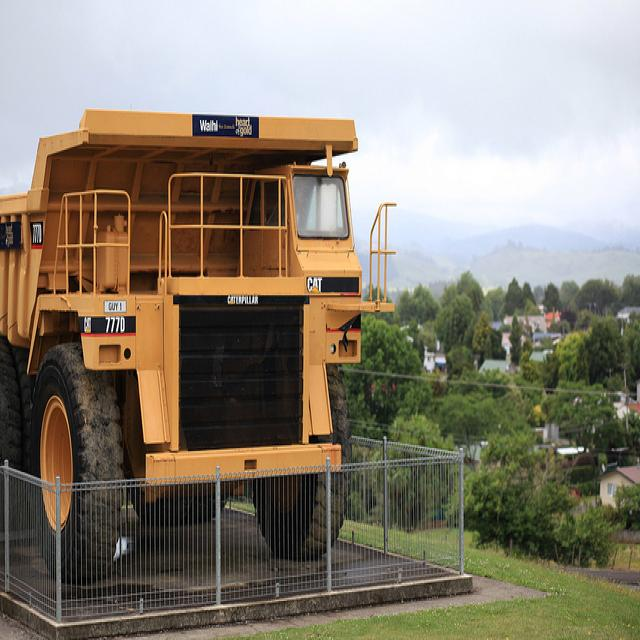Vehicle: (1, 108, 399, 602)
